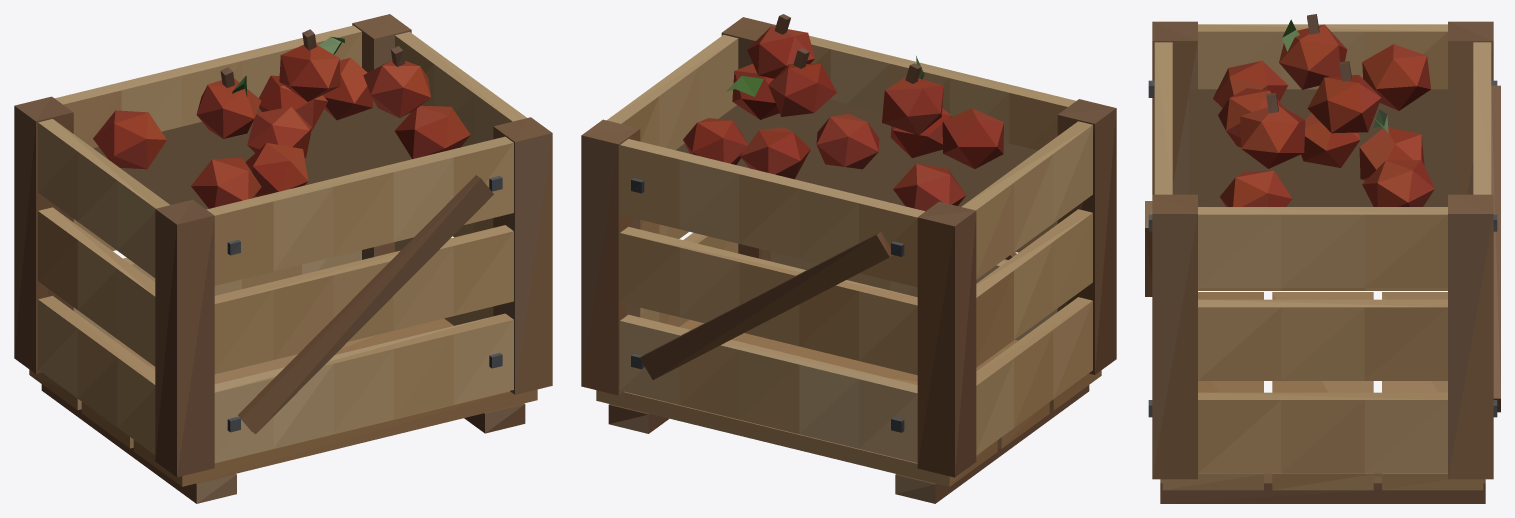
File: crate-produce.clunk-optimized.glb
3 renders of one model, left to right at view 1: azimuth 30°, elevation 25°; view 2: azimuth 150°, elevation 25°; view 3: azimuth 270°, elevation 25°, orthographic. The views are drawn at different scales.
Visible parts, largest first — view 1: crate_body, produce, hardware; view 2: crate_body, produce, hardware; view 3: crate_body, produce, hardware.
Boxes of the visible parts, bbox=[...] form: crate_body: bbox=[14, 14, 552, 503]; produce: bbox=[93, 29, 470, 209]; hardware: bbox=[227, 176, 502, 432]; crate_body: bbox=[581, 17, 1116, 503]; produce: bbox=[676, 14, 1037, 211]; hardware: bbox=[631, 178, 904, 432]; crate_body: bbox=[1145, 21, 1500, 503]; produce: bbox=[1189, 14, 1456, 206]; hardware: bbox=[1148, 80, 1497, 417].
Bounding box in the file's own units: 0.56 × 0.5118 × 0.438.
